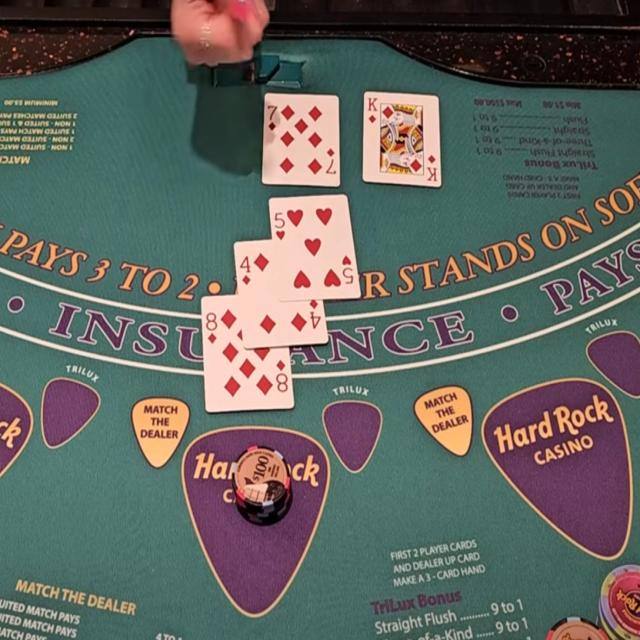4: (238, 254, 252, 274)
5: (272, 210, 286, 230)
7: (267, 104, 278, 122)
8: (205, 311, 218, 331)
K: (366, 97, 378, 113)
